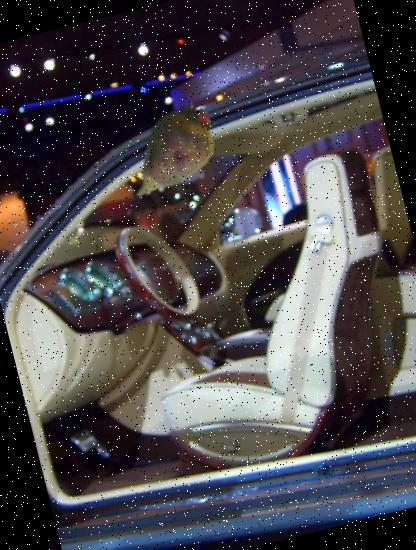Beetroot: (103, 82, 246, 225)
